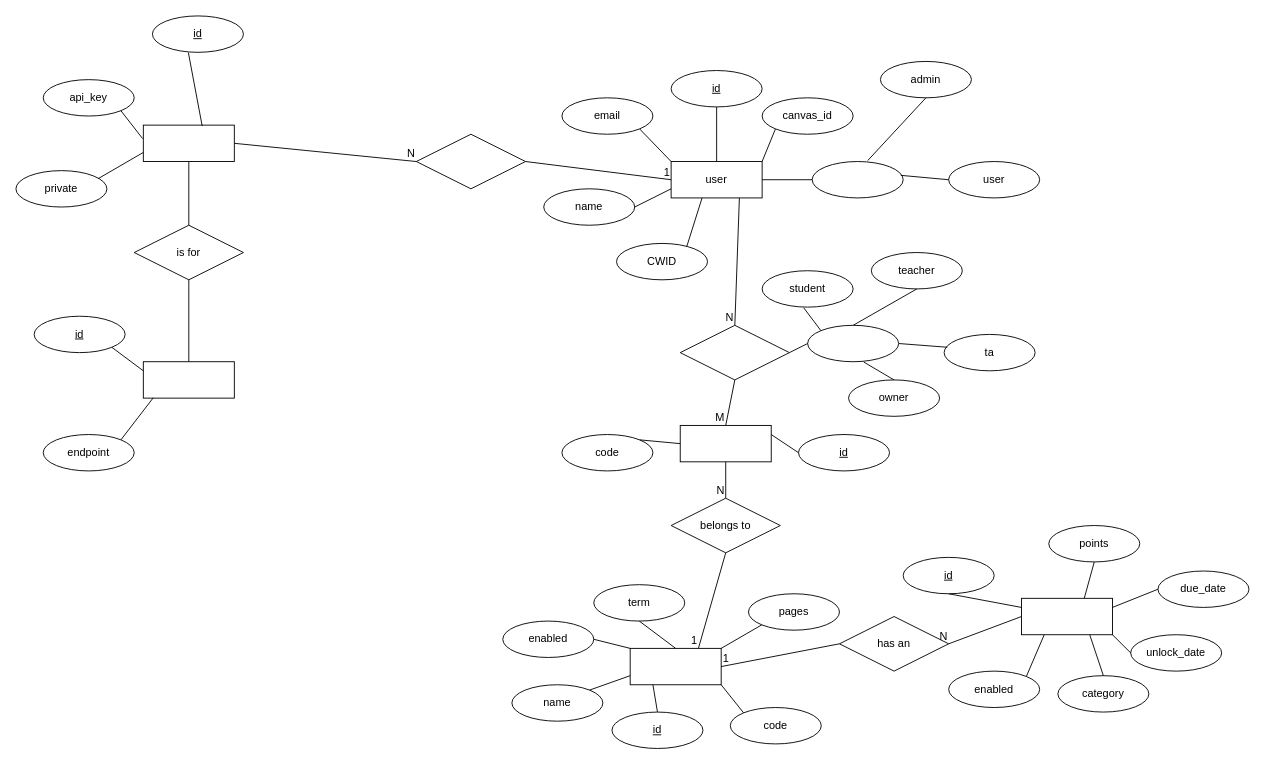
Some shapes in this 1265 by 764 pixel diagram are drawn without their labels. Here are the shapes that lost their labels. From the top down, the centre of each, then its label:
At point (188, 143): "credential".
At point (470, 161): "are owned by".
At point (857, 179): "SERVER_ROLE".
At point (734, 352): "is in".
At point (853, 343): "COURSE_ROLE".
At point (188, 379): "external_source".
At point (725, 443): "section".
At point (1066, 616): "assignment".
At point (675, 666): "course".
